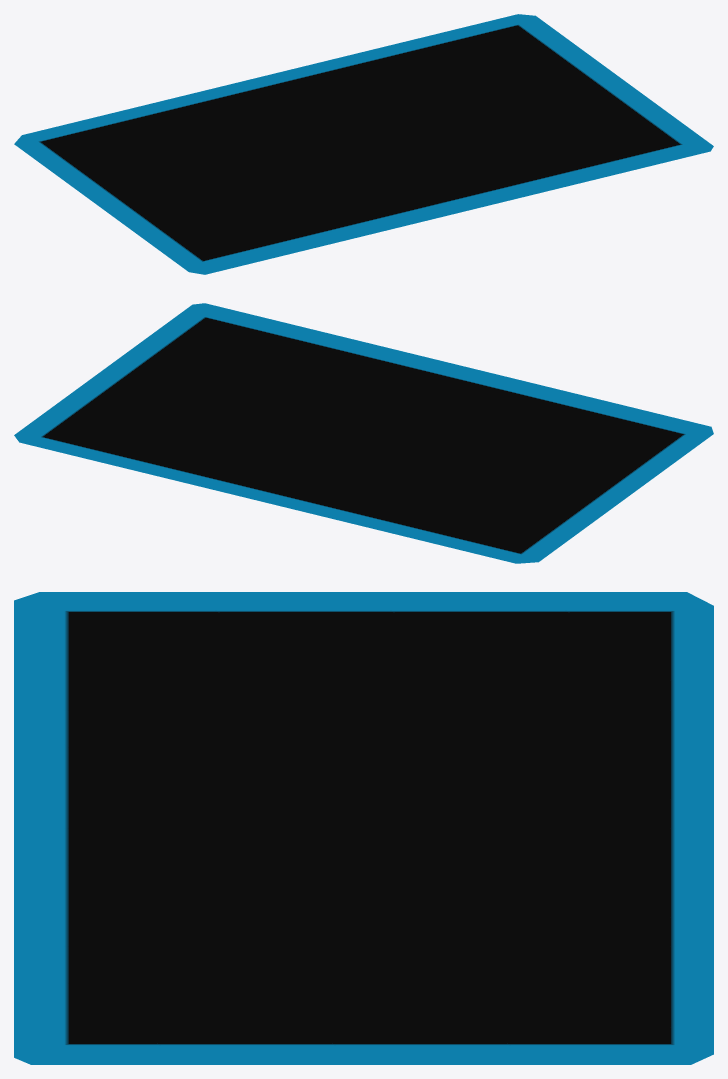
Rendered from Blue Side Scoreboard.FBX.
The picture shows the model from 3 angles, top to bottom: view 1: azimuth 30°, elevation 25°; view 2: azimuth 150°, elevation 25°; view 3: azimuth 270°, elevation 25°; orthographic projection. The views are drawn at different scales.
Visible parts, largest first — view 1: Plane001; view 2: Plane001; view 3: Plane001.
Boxes of the visible parts, x1,y1,x2,y2 form: Plane001: (14,14,713,274); Plane001: (14,303,713,563); Plane001: (14,592,713,1064).
Bounding box in the file's own units: 16.86 × 6.46e-16 × 10.55.
1 material, 1 textured.
